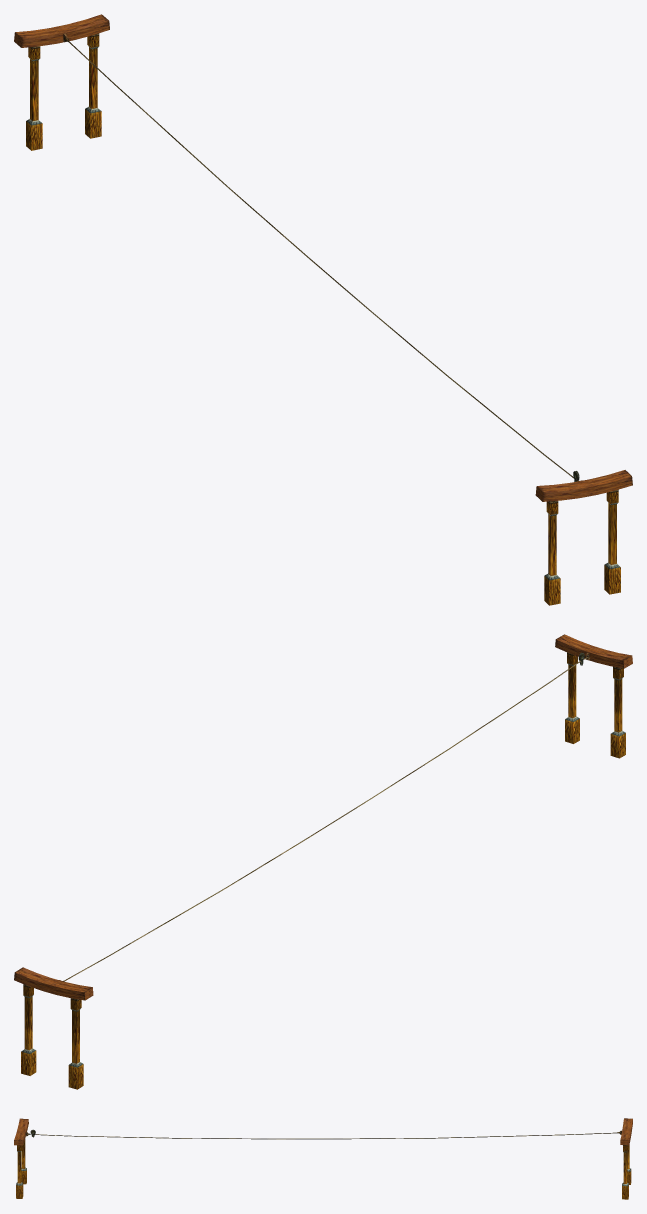
File: CB_ZIPLINE_ANIM01.fbx
3 views of the same model, one above another, from view 1: azimuth 30°, elevation 25°; view 2: azimuth 150°, elevation 25°; view 3: azimuth 270°, elevation 25° (orthographic). The views are drawn at different scales.
Parts seen in each view (by area): view 1: CB_ZIPLINE_ANIM01; view 2: CB_ZIPLINE_ANIM01; view 3: CB_ZIPLINE_ANIM01.
Part boxes in pixels (left/top/right/bottom): CB_ZIPLINE_ANIM01: left=14, top=14, right=632, bottom=605; CB_ZIPLINE_ANIM01: left=14, top=634, right=632, bottom=1089; CB_ZIPLINE_ANIM01: left=14, top=1118, right=632, bottom=1199.
Bounding box in the file's own units: 63449 × 62540 × 473908.
Materials: 8 (8 with a texture image).
